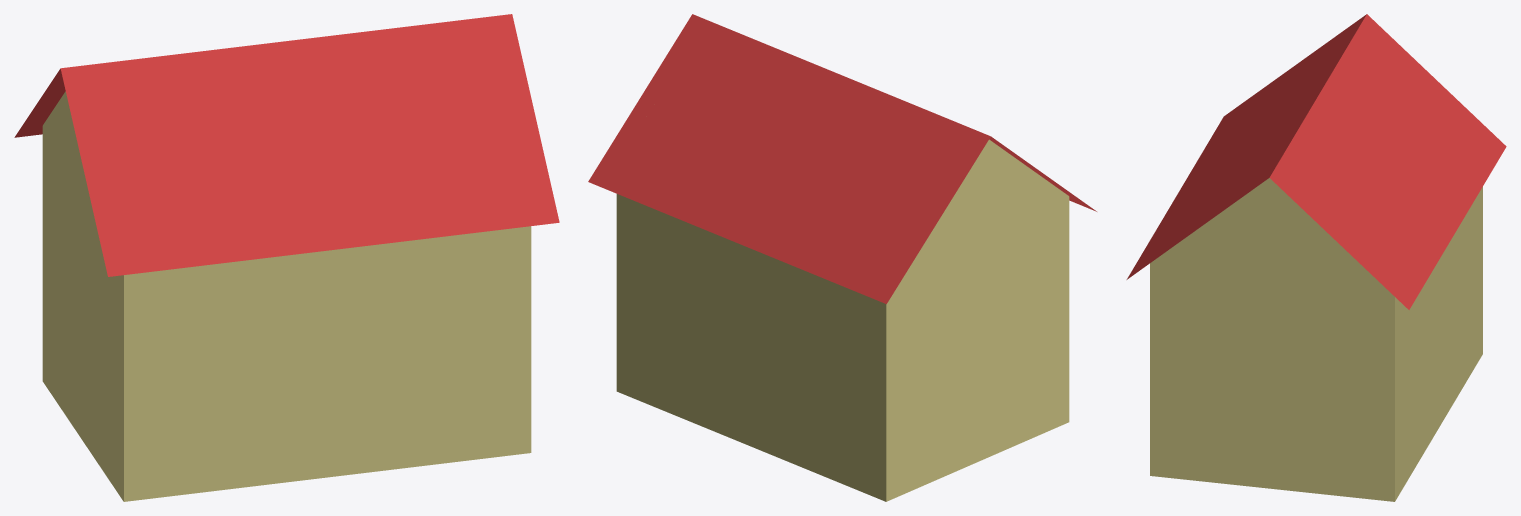
3 views of the same model, side by side, from view 1: azimuth 30°, elevation 25°; view 2: azimuth 150°, elevation 25°; view 3: azimuth 270°, elevation 25° (orthographic). The views are drawn at different scales.
Bounding box in the file's own units: 17.59 × 14.58 × 13.51.
